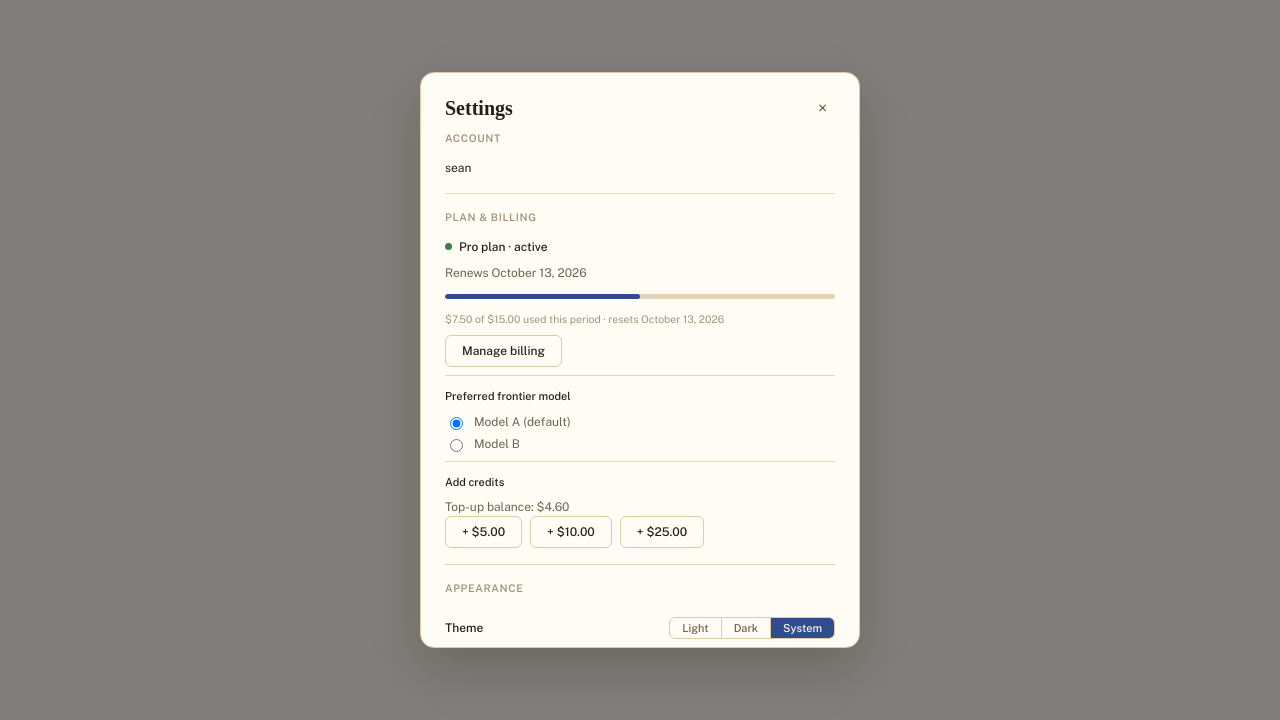
Test: SettingsPanel › pro plan: shows an error if saving the model preference fails
Expected: the text "Pro plan · active" is shown, [445, 238, 548, 256]
Click the radio button labelled "Model B" at (456, 445), box [450, 439, 463, 452]
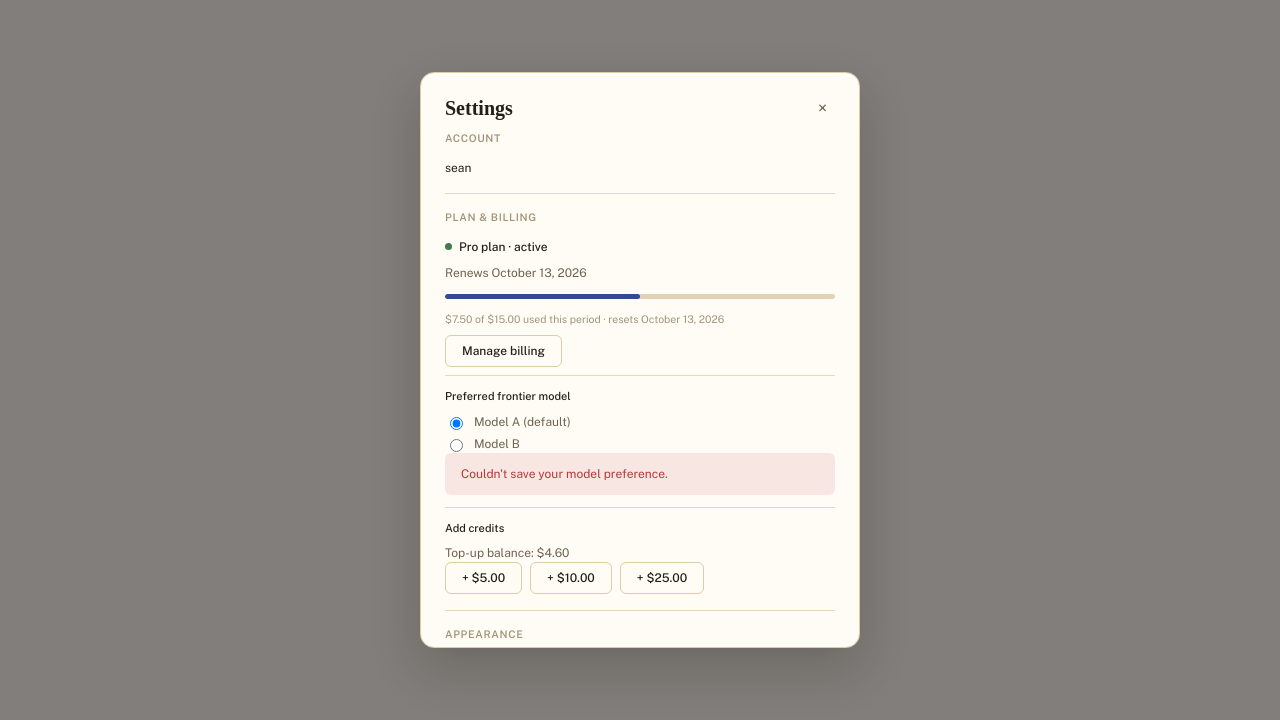
Expected: the radio button labelled "Model A (default)" is checked, [450, 417, 463, 430]
Result: the text "Couldn't save your model preference." is shown at [445, 453, 835, 495]
